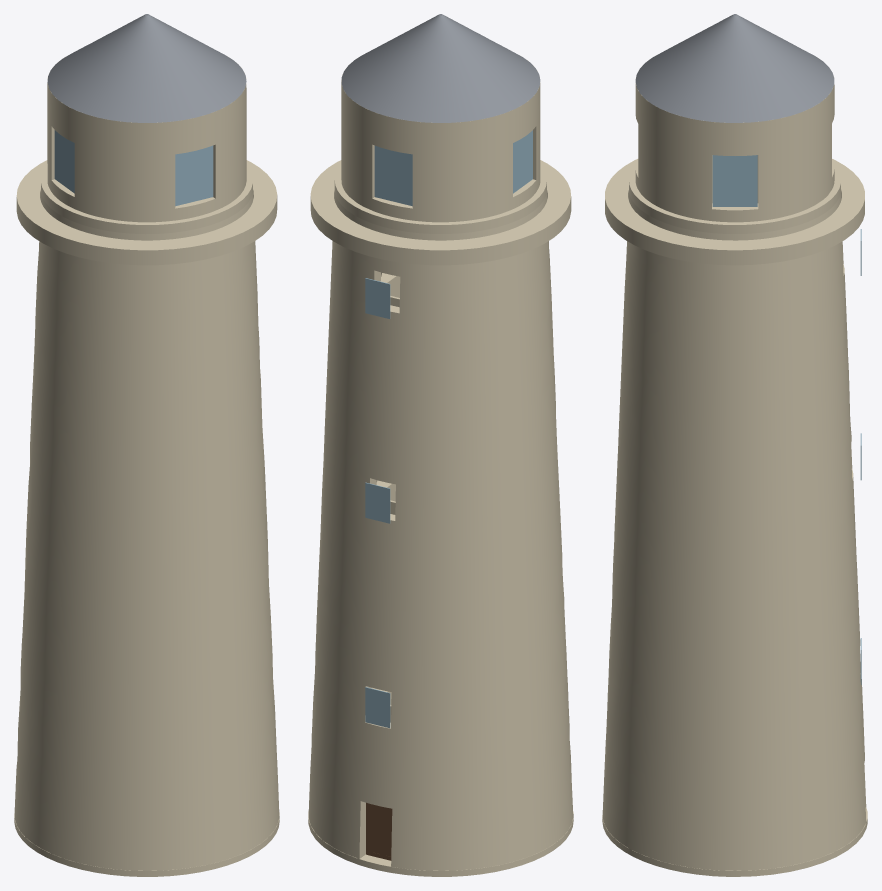
3 renders of one model, left to right at view 1: azimuth 30°, elevation 25°; view 2: azimuth 150°, elevation 25°; view 3: azimuth 270°, elevation 25°, orthographic.
Visible parts, largest first — view 1: body_plaster, roof_metal, trim_plaster, roof_plaster, glass_glass (×2); view 2: body_plaster, roof_metal, trim_plaster, glass_glass (×5), roof_plaster, door_timber; view 3: body_plaster, roof_metal, trim_plaster, roof_plaster, glass_glass.
Boxes of the visible parts, x1,y1,x2,y2 form: body_plaster: (14,67,279,876); roof_metal: (47,14,246,122); trim_plaster: (16,160,277,265); roof_plaster: (41,165,252,234); glass_glass (×2): (54,130,213,206); body_plaster: (308,60,573,876); roof_metal: (341,14,540,122); trim_plaster: (310,160,571,265); glass_glass (×5): (365,130,532,728); roof_plaster: (334,165,546,233); door_timber: (366,802,392,860); body_plaster: (602,71,867,876); roof_metal: (635,14,834,122); trim_plaster: (605,159,864,265); roof_plaster: (629,164,840,233); glass_glass: (712,155,757,206).
Size of what is drawn, in the model's own units: 8 by 26.8 by 8.
